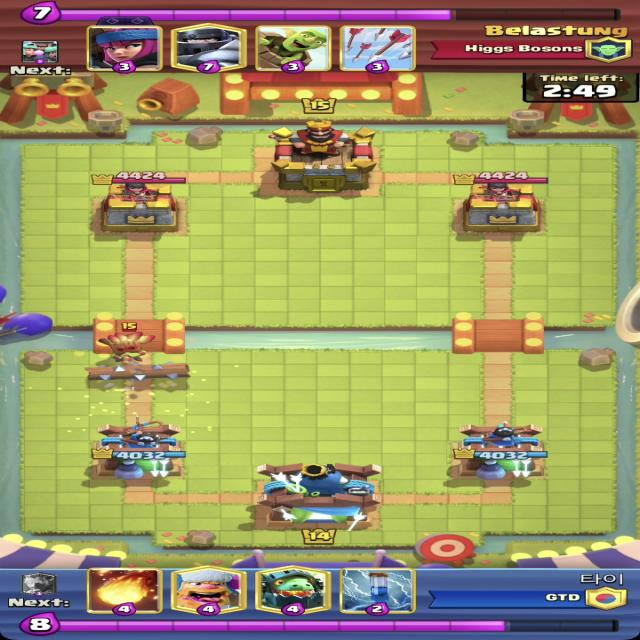Enemy-DartGoblin: (98, 322, 157, 368)
Player-Log: (84, 361, 193, 383)
